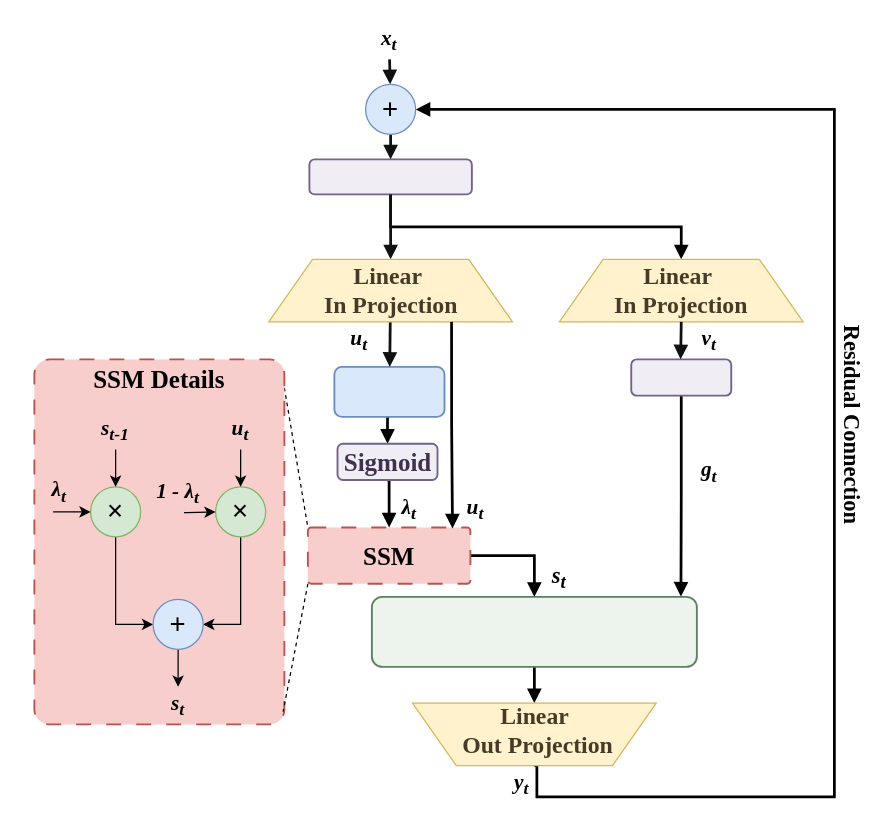
Image size: 893x830. Some labels were removed from this diagram. Each missing label, with the box of its shape:
Conv: (333, 365, 445, 417)
Elementwise multiplication with gate: (370, 595, 697, 667)
RMSNorm: (308, 158, 472, 195)
SiLU: (630, 358, 732, 396)
